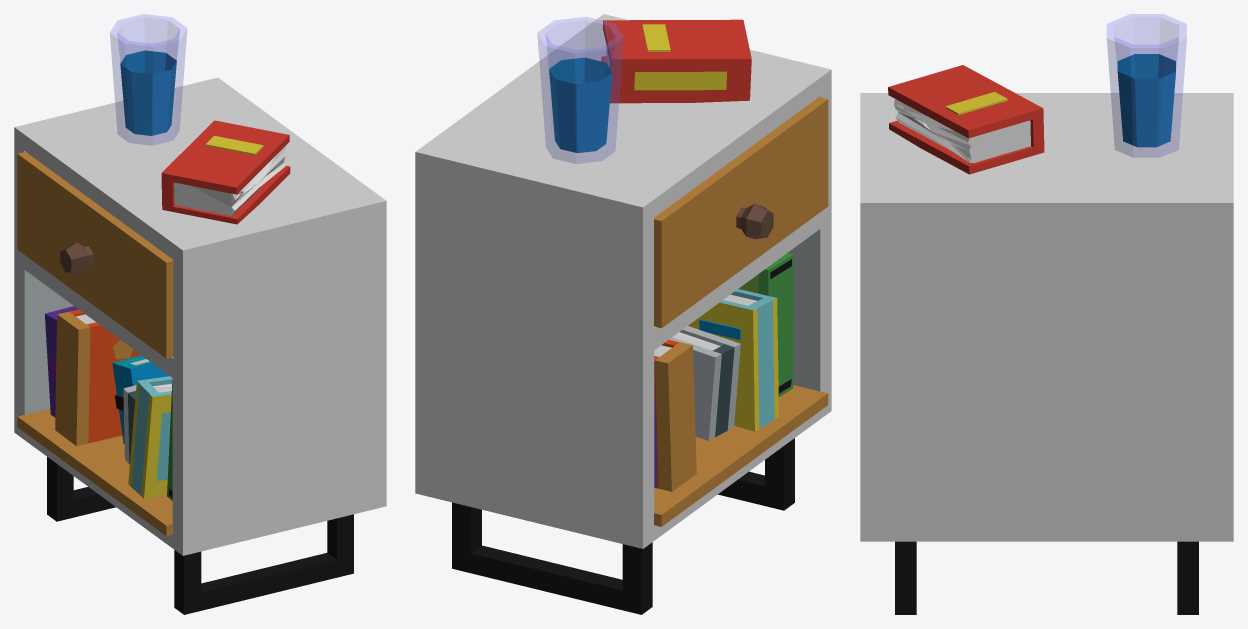
Rendered from bookshelf.glb.
3 views of the same model, side by side, from view 1: azimuth 30°, elevation 25°; view 2: azimuth 150°, elevation 25°; view 3: azimuth 270°, elevation 25° (orthographic). The views are drawn at different scales.
Visible parts, largest first — view 1: node_MeshObject-606646272-PolyPaper21, node_MeshObject-34567168-PolyGlass24; view 2: node_MeshObject-606646272-PolyPaper21, node_MeshObject-34567168-PolyGlass24; view 3: node_MeshObject-606646272-PolyPaper21, node_MeshObject-34567168-PolyGlass24.
Part boxes in pixels (x1,y1,x2,y2): node_MeshObject-606646272-PolyPaper21: (14,50,386,614); node_MeshObject-34567168-PolyGlass24: (110,14,186,145); node_MeshObject-606646272-PolyPaper21: (415,14,831,614); node_MeshObject-34567168-PolyGlass24: (537,17,623,163); node_MeshObject-606646272-PolyPaper21: (860,54,1233,614); node_MeshObject-34567168-PolyGlass24: (1107,14,1186,157).
Bounding box in the file's own units: 0.688 × 1.36 × 0.86.
